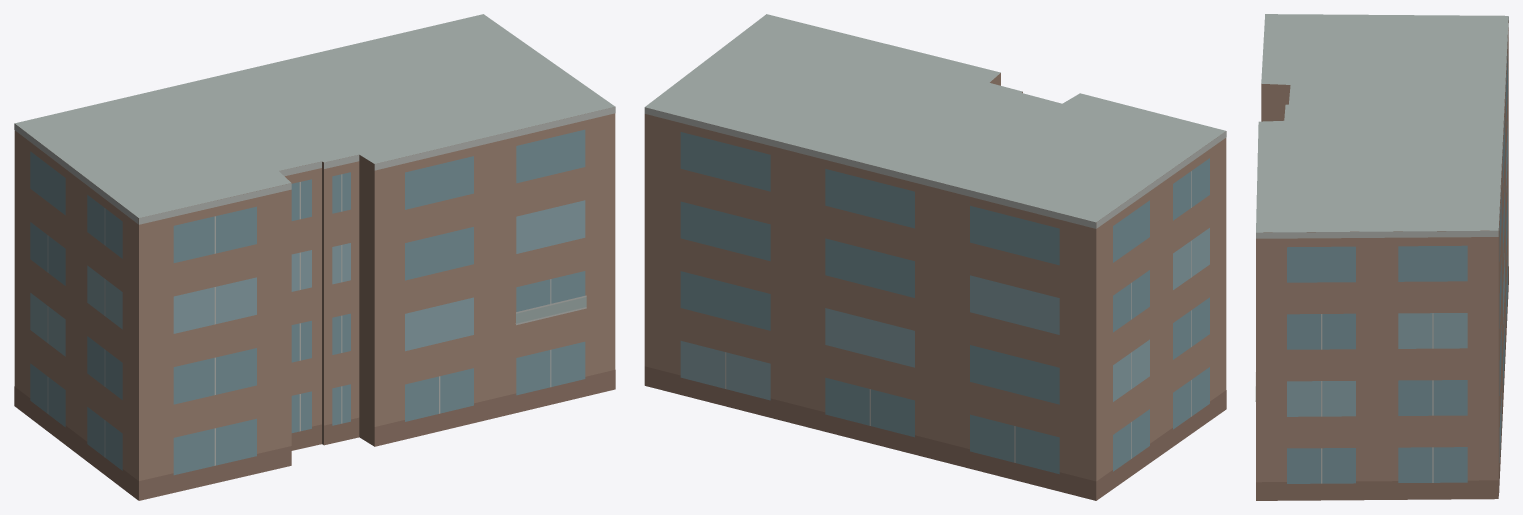
Rendered from survey-upis-32599671.glb.
3 renders of one model, left to right at view 1: azimuth 30°, elevation 25°; view 2: azimuth 150°, elevation 25°; view 3: azimuth 270°, elevation 25°, orthographic. The views are drawn at different scales.
Visible parts, largest first — view 1: survey-upis-32599671.tmp; view 2: survey-upis-32599671.tmp; view 3: survey-upis-32599671.tmp.
Part boxes in pixels (bbox=[...]): survey-upis-32599671.tmp: bbox=[14, 14, 615, 500]; survey-upis-32599671.tmp: bbox=[644, 14, 1226, 500]; survey-upis-32599671.tmp: bbox=[1255, 14, 1508, 500].
Size of the model in its own units: 18.17 by 10.4 by 8.91.
